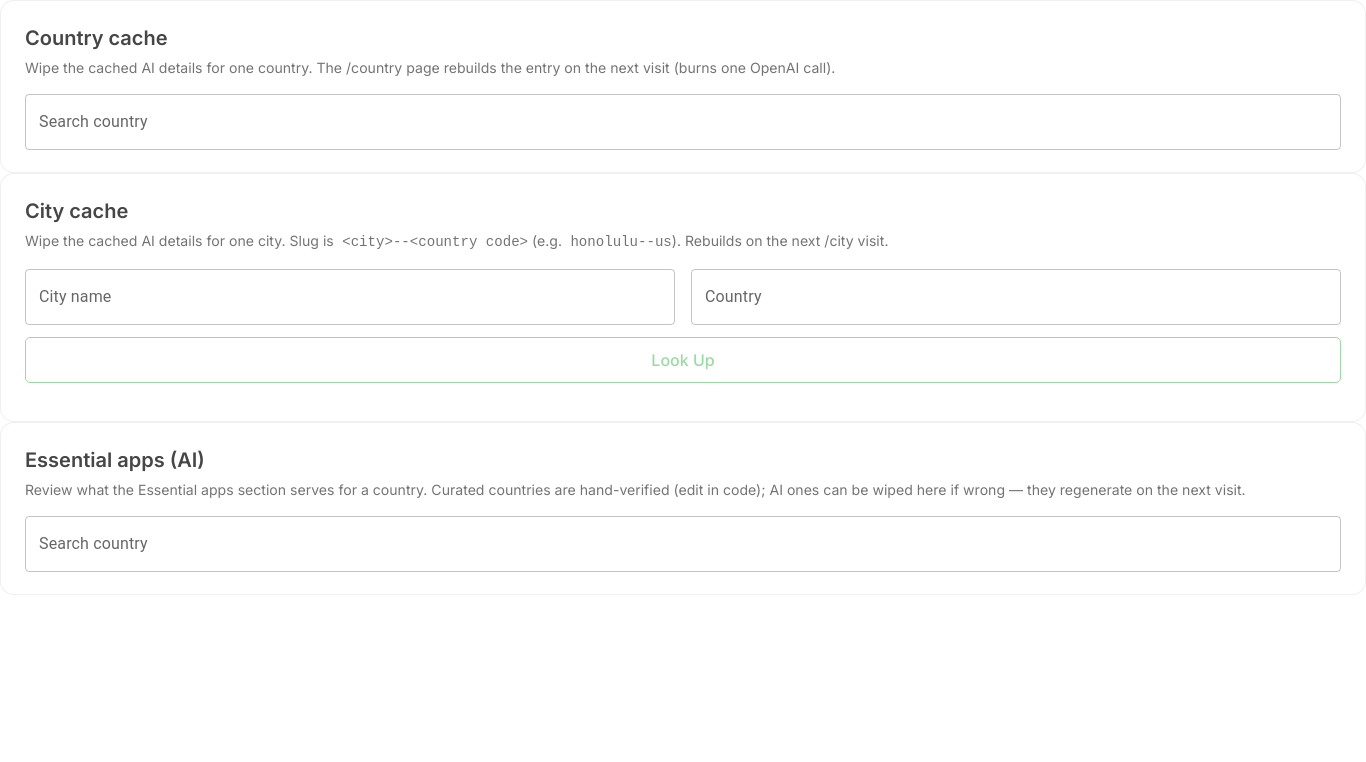
Test: CacheCard — country section › clears the hero image when the checkbox is ticked
Type "Japan" into the field with placeholder "Type a country name…" below "Country cache" at (683, 122), box [25,94,1341,150]
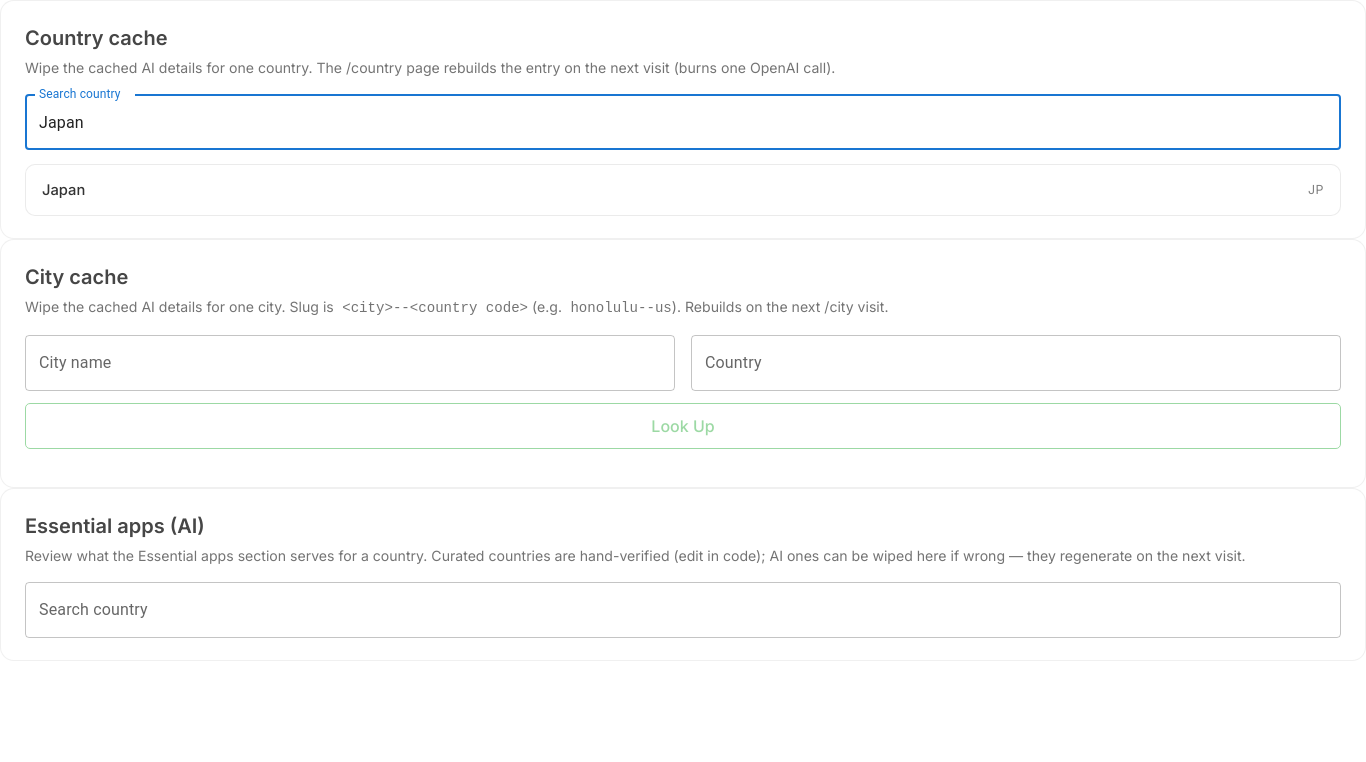
Click the button "Japan JP" at (64, 190), box [32,171,1334,209]
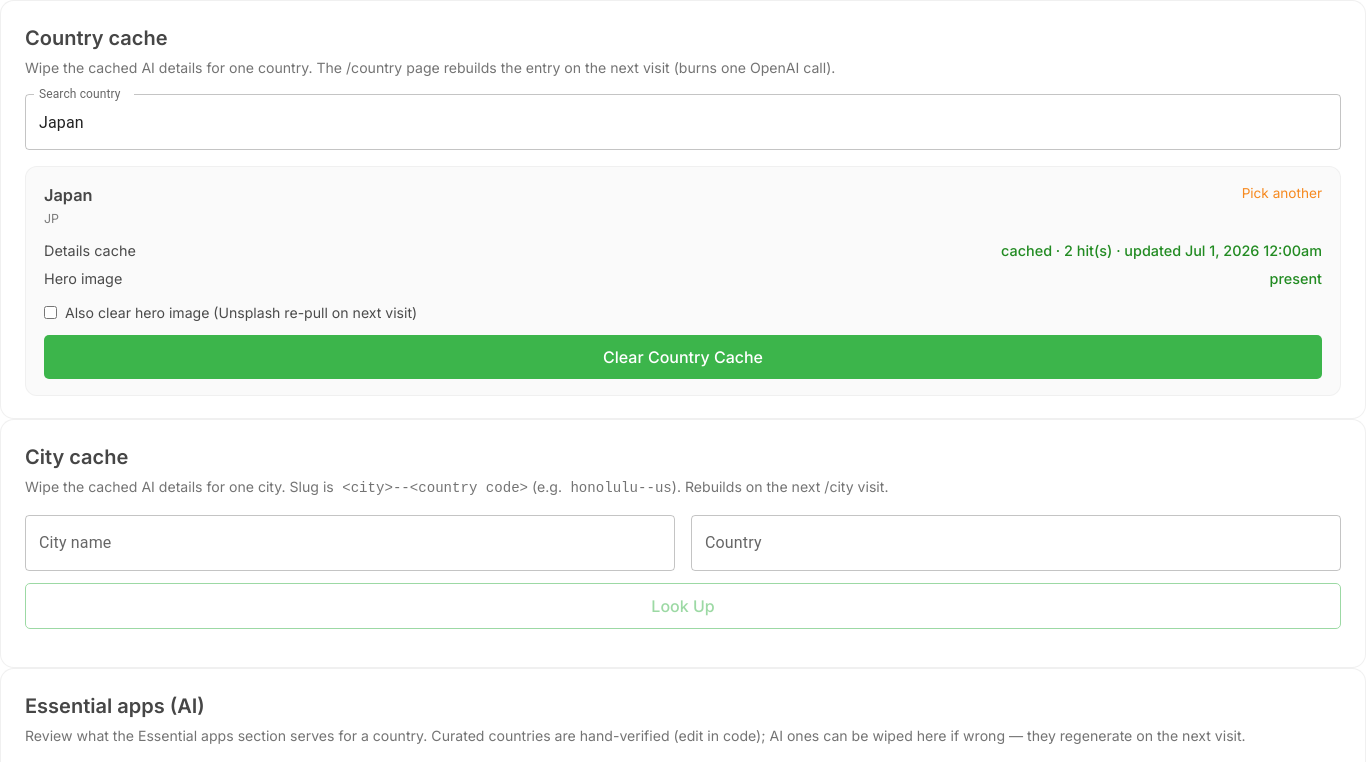
Click the checkbox at (50, 312), box [44,306,57,319]
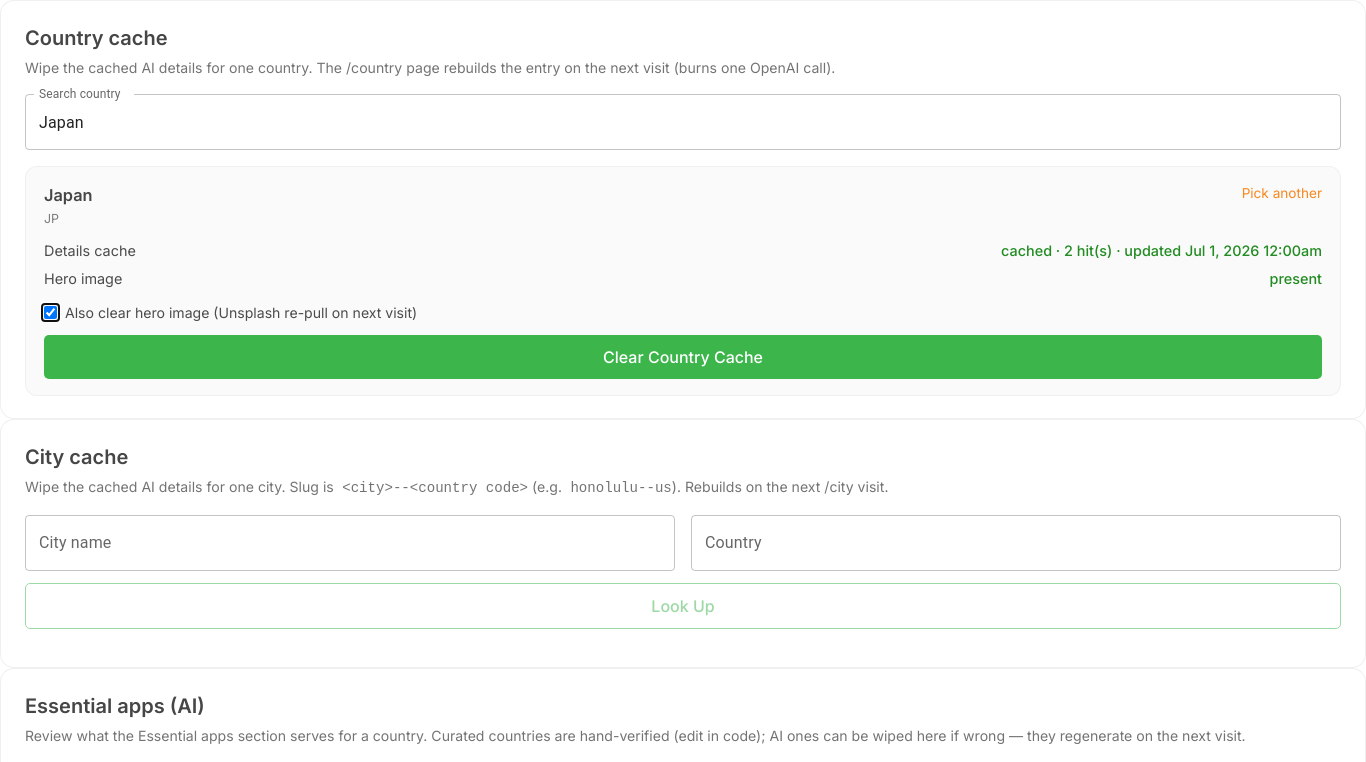
Click the button "Clear country cache" at (683, 357), box [44,335,1322,379]
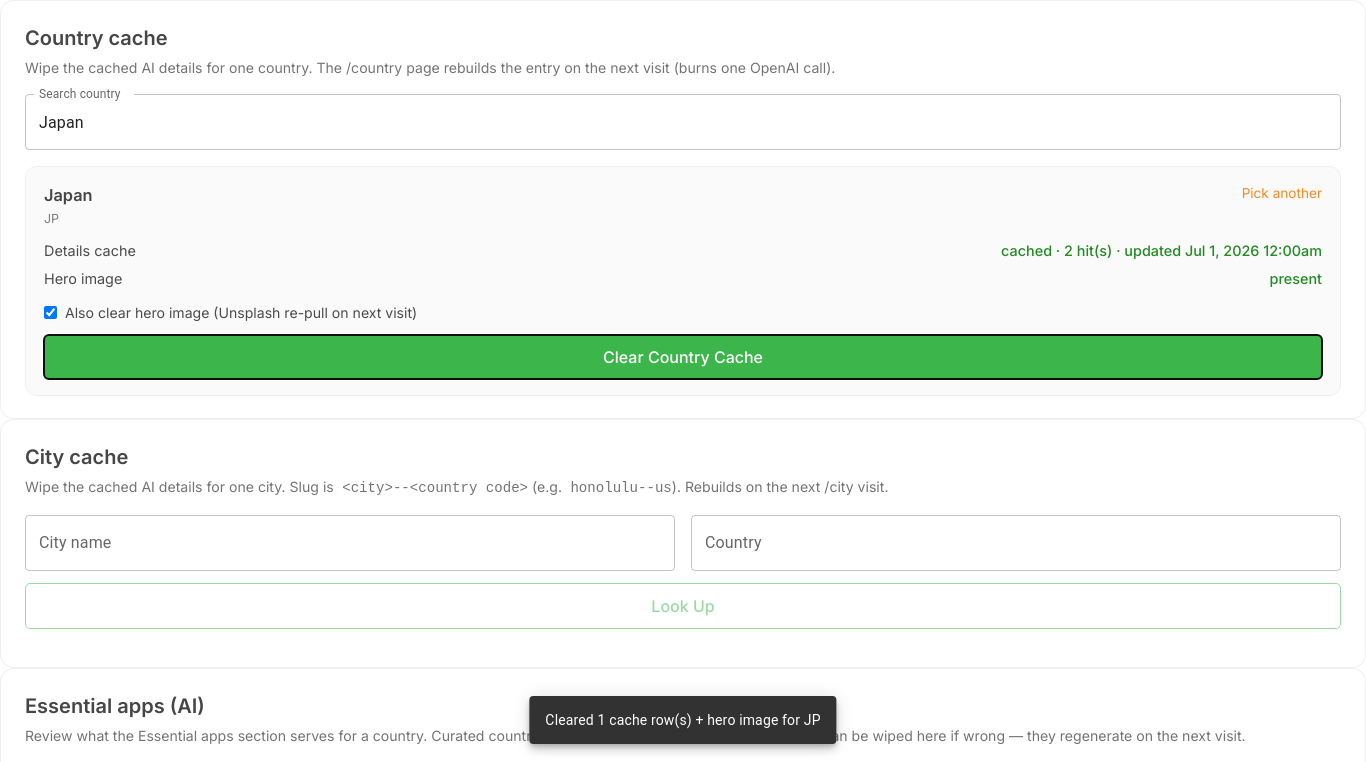
Check: the text "Cleared 1 cache row(s) + hero image for JP" is shown, box [545,712,821,728]
